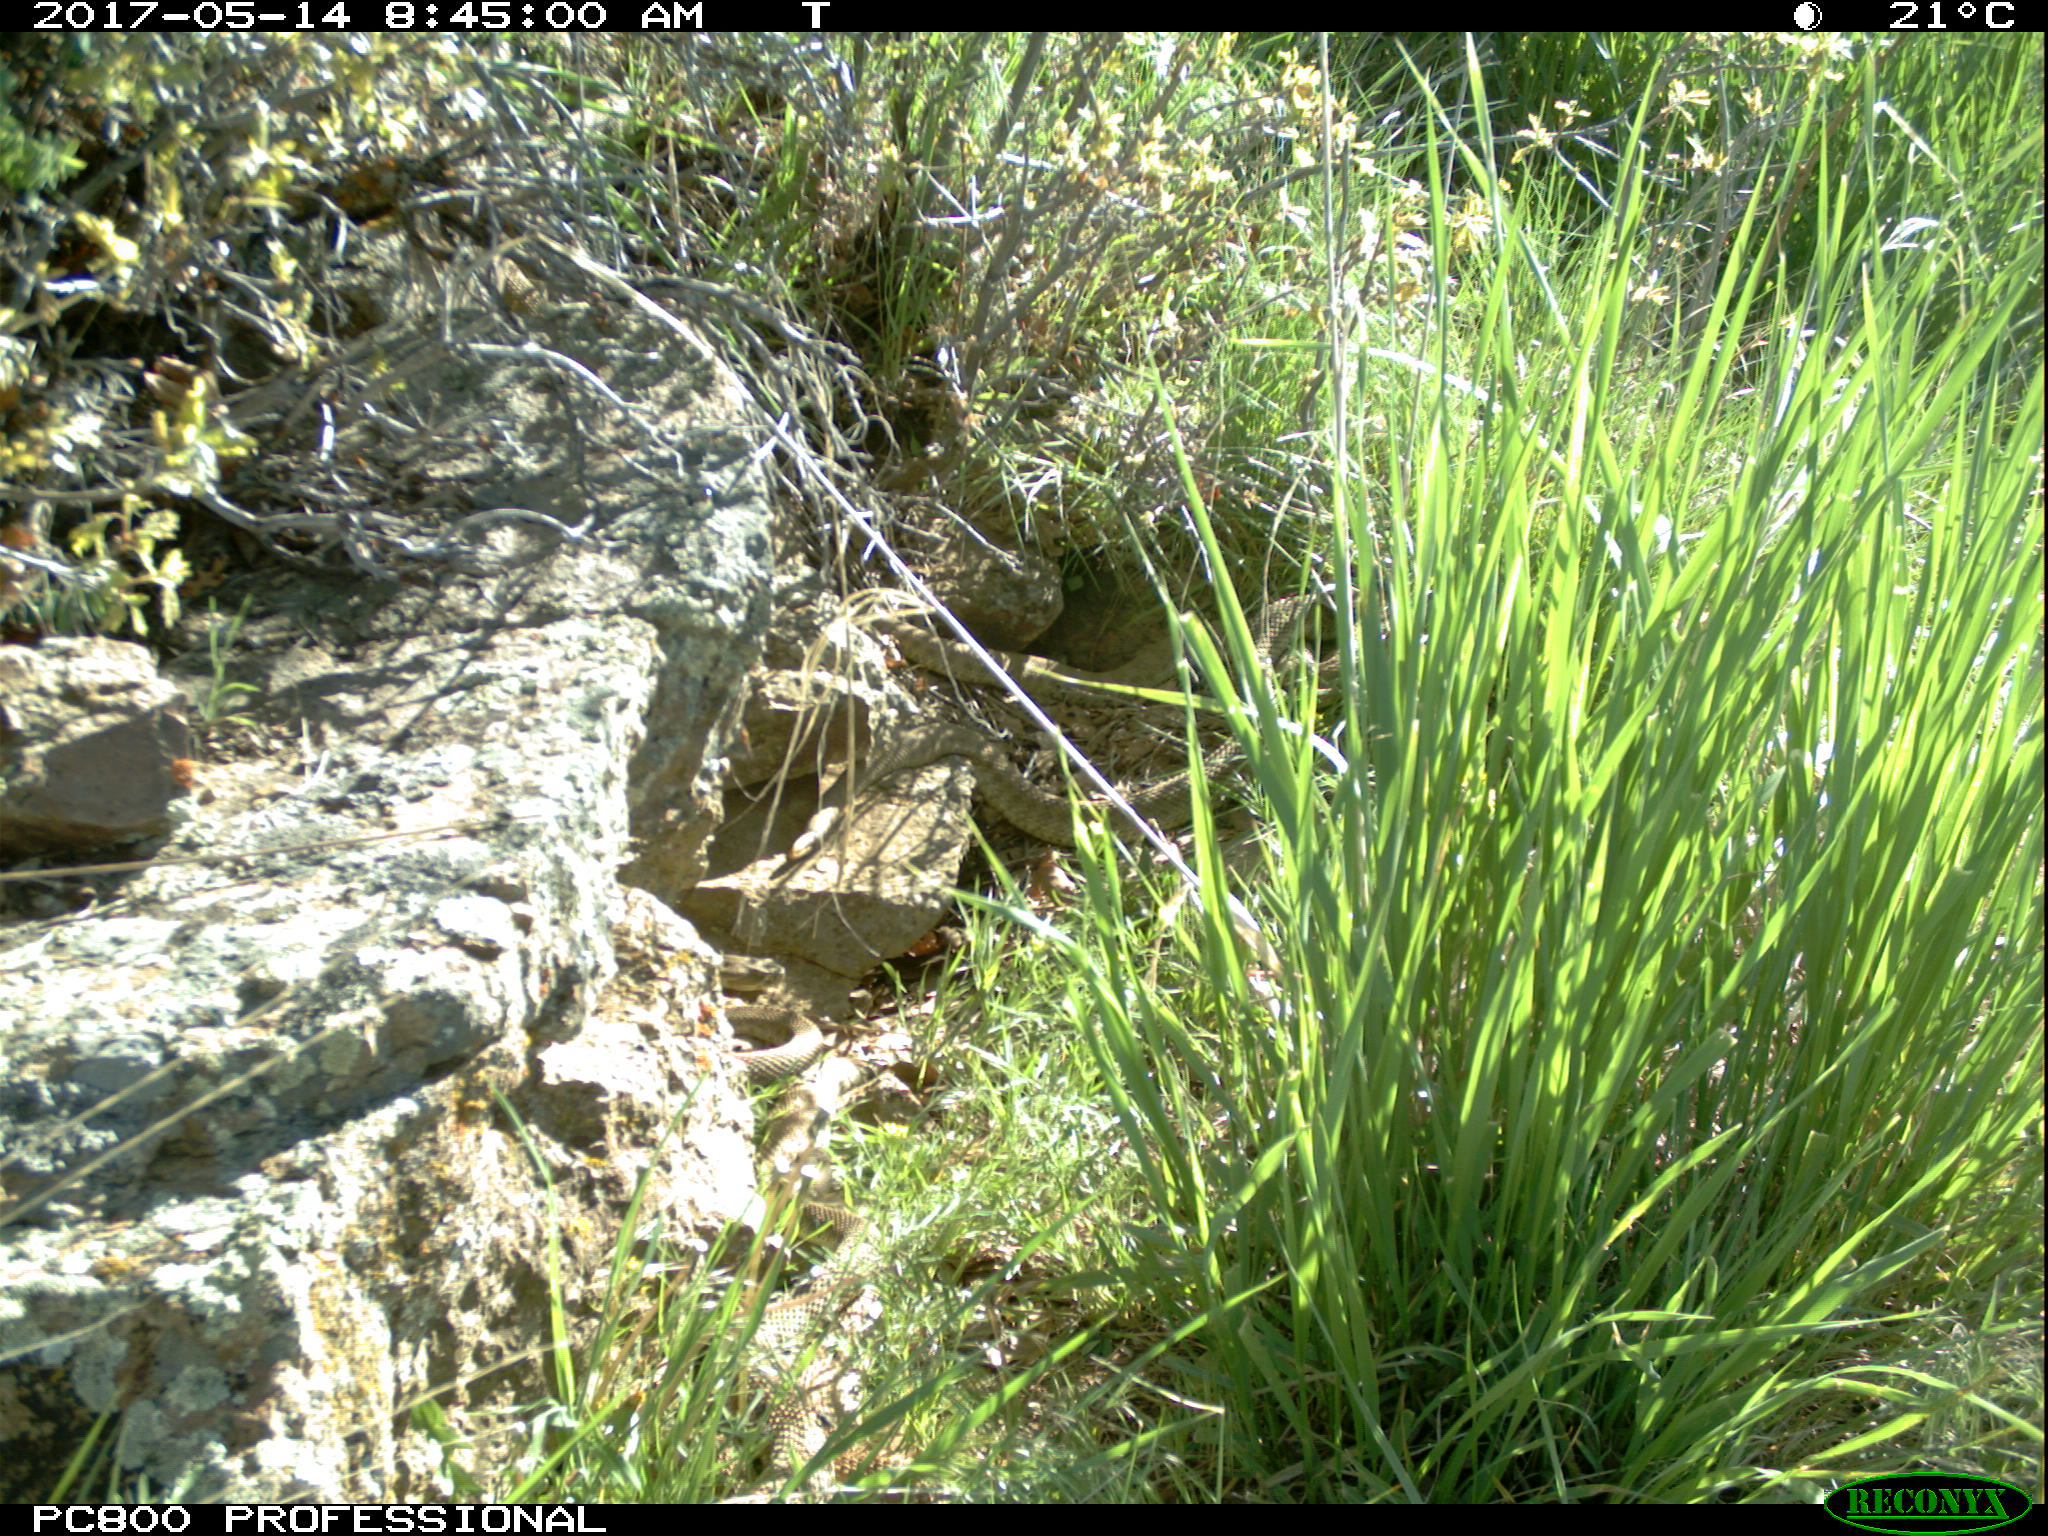snake: (847, 718, 1259, 849), (753, 1039, 863, 1494), (866, 603, 1192, 695), (1247, 587, 1380, 715), (713, 954, 830, 1071)
